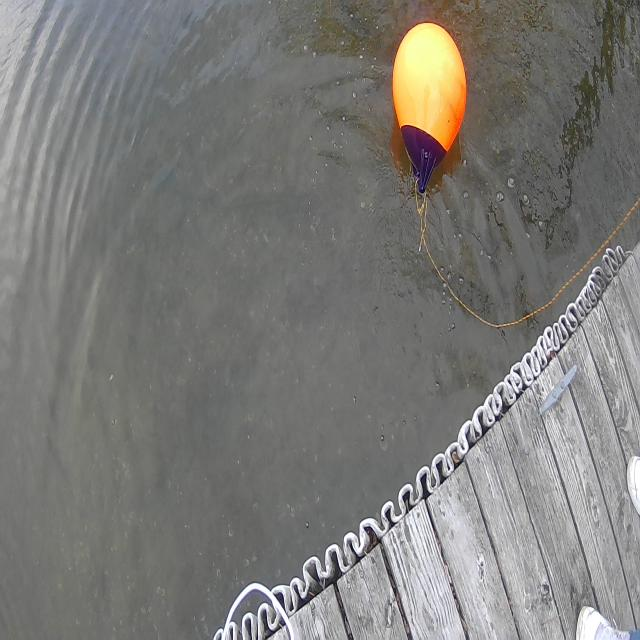Buoy: (387, 12, 472, 196)
